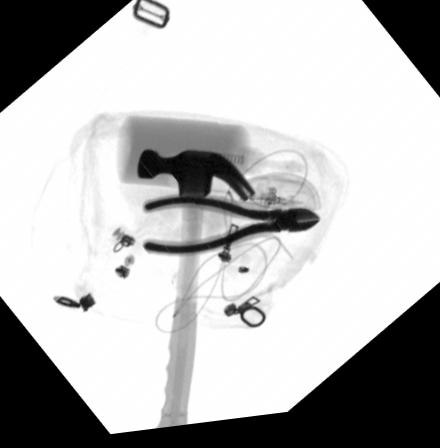Hammer: (134, 153, 254, 433)
Pliers: (140, 198, 320, 263)
